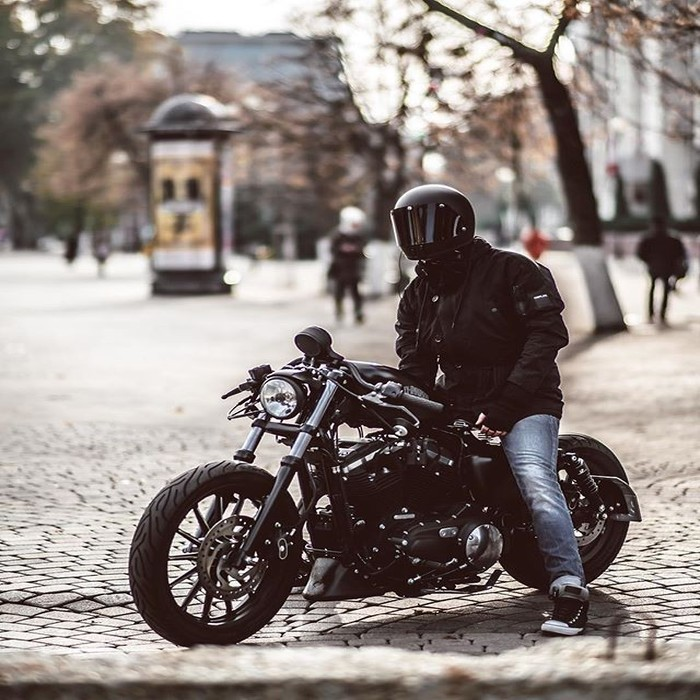h: (388, 179, 483, 266)
